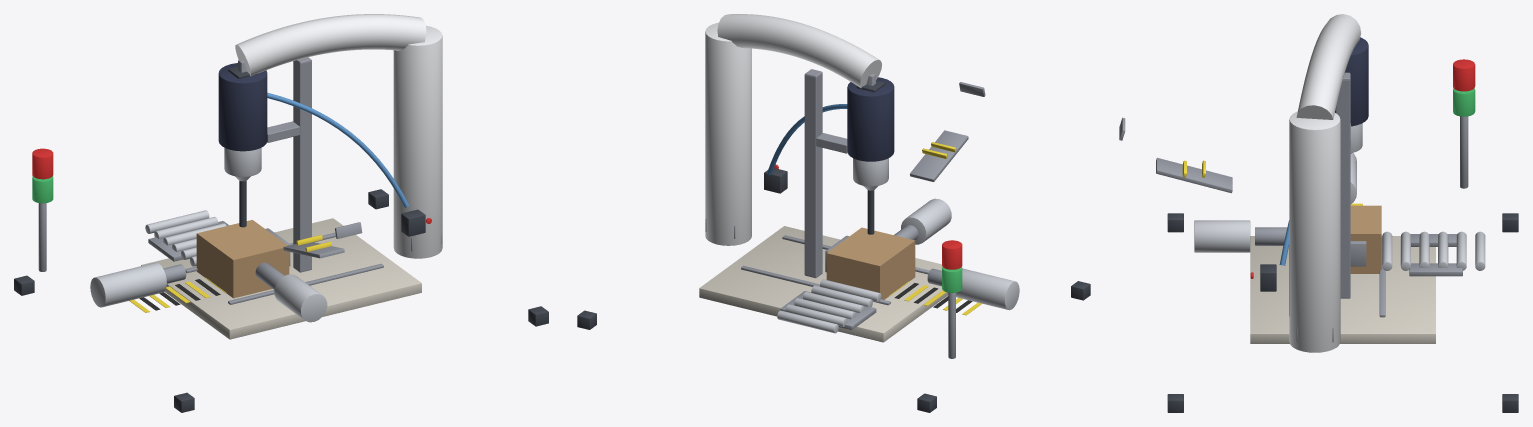
Rendered from drill-station.glb.
The picture shows the model from 3 angles, left to right: view 1: azimuth 30°, elevation 25°; view 2: azimuth 150°, elevation 25°; view 3: azimuth 270°, elevation 25°; orthographic projection. The views are drawn at different scales.
Visible parts, largest first — view 1: Bed, GantryColumn, GantryArm, BlockBody, MotorHousing, SupportColumn, ActuatorBodyL, PushBody, Hose, ChuckHousing, RailFront, StackLightRed (+7 smaller); view 2: GantryColumn, Bed, GantryArm, BlockBody, SupportColumn, MotorHousing, ActuatorBodyL, PushBody, FeedBed, ChuckHousing, Roller_5, StackLightRed (+10 smaller); view 3: GantryColumn, Bed, GantryArm, SupportColumn, PushBody, BlockBody, MotorHousing, FeedBed, StackLightRed, StackLightPole, RollerFrameR, StackLightGreen (+10 smaller).
Part boxes in pixels (box(x1,y1,x2,y2)): Bed: box(141, 218, 421, 339); GantryColumn: box(393, 25, 442, 258); GantryArm: box(235, 14, 426, 76); BlockBody: box(196, 220, 289, 298); MotorHousing: box(218, 63, 267, 151); SupportColumn: box(293, 57, 311, 272); ActuatorBodyL: box(90, 262, 166, 307); PushBody: box(274, 274, 327, 322); Hose: box(267, 92, 408, 207); ChuckHousing: box(224, 147, 261, 176); RailFront: box(228, 263, 383, 304); StackLightRed: box(32, 148, 53, 179); GantryColumn: box(705, 22, 751, 245); Bed: box(699, 226, 948, 342); GantryArm: box(717, 14, 881, 88); BlockBody: box(826, 227, 915, 299); SupportColumn: box(804, 69, 822, 278); MotorHousing: box(847, 77, 894, 161); ActuatorBodyL: box(947, 268, 1019, 310); PushBody: box(901, 198, 951, 244); FeedBed: box(910, 130, 968, 181); ChuckHousing: box(853, 158, 888, 186); Roller_5: box(777, 310, 838, 333); StackLightRed: box(942, 240, 962, 269); GantryColumn: box(1289, 111, 1340, 352); Bed: box(1250, 236, 1435, 343); GantryArm: box(1296, 14, 1361, 119); SupportColumn: box(1335, 72, 1350, 298); PushBody: box(1194, 220, 1250, 252); BlockBody: box(1350, 205, 1381, 273); MotorHousing: box(1335, 37, 1368, 126); FeedBed: box(1156, 157, 1232, 193); StackLightRed: box(1453, 59, 1475, 91); StackLightPole: box(1460, 116, 1468, 188); RollerFrameR: box(1409, 263, 1462, 276); StackLightGreen: box(1453, 88, 1475, 116).
Size of the model in its own units: 9.71 by 7.03 by 8.59.
